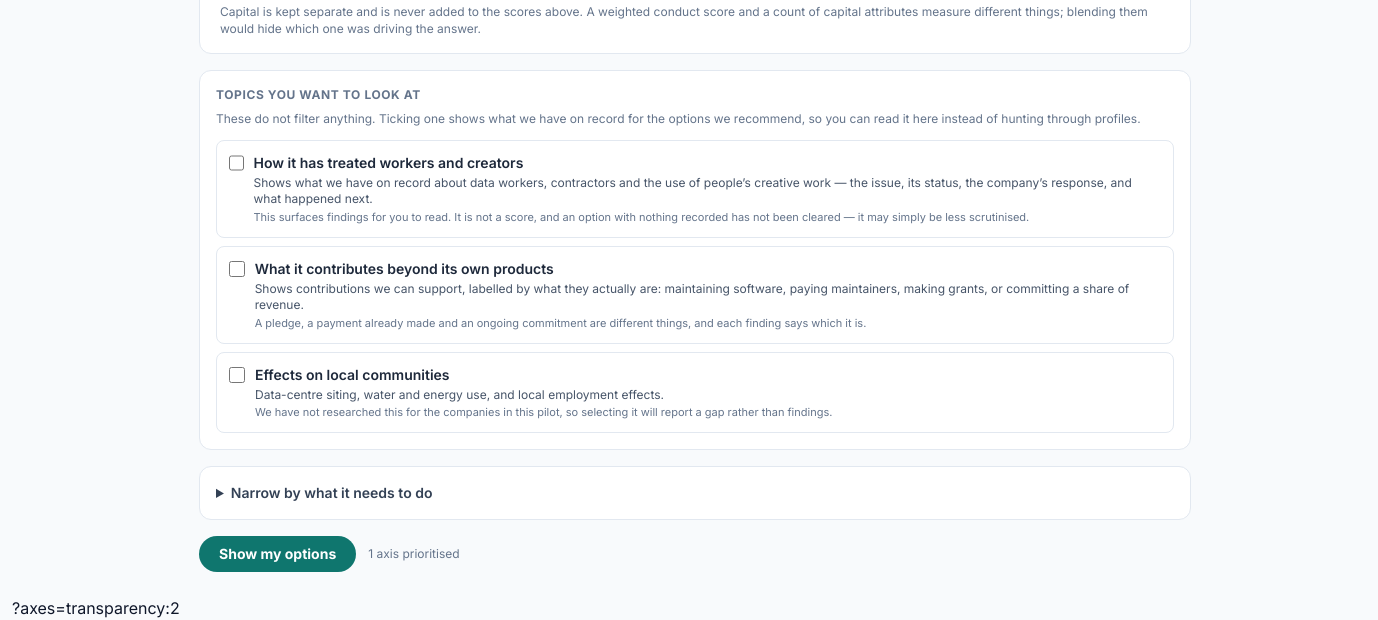
Test: axis priorities in the tool finder › orders the submitted results by the shared priorities and says so
(page scrolled)
Click the button "Show my options" at coordinates (278, 554), box [199, 536, 356, 572]
(page scrolled)
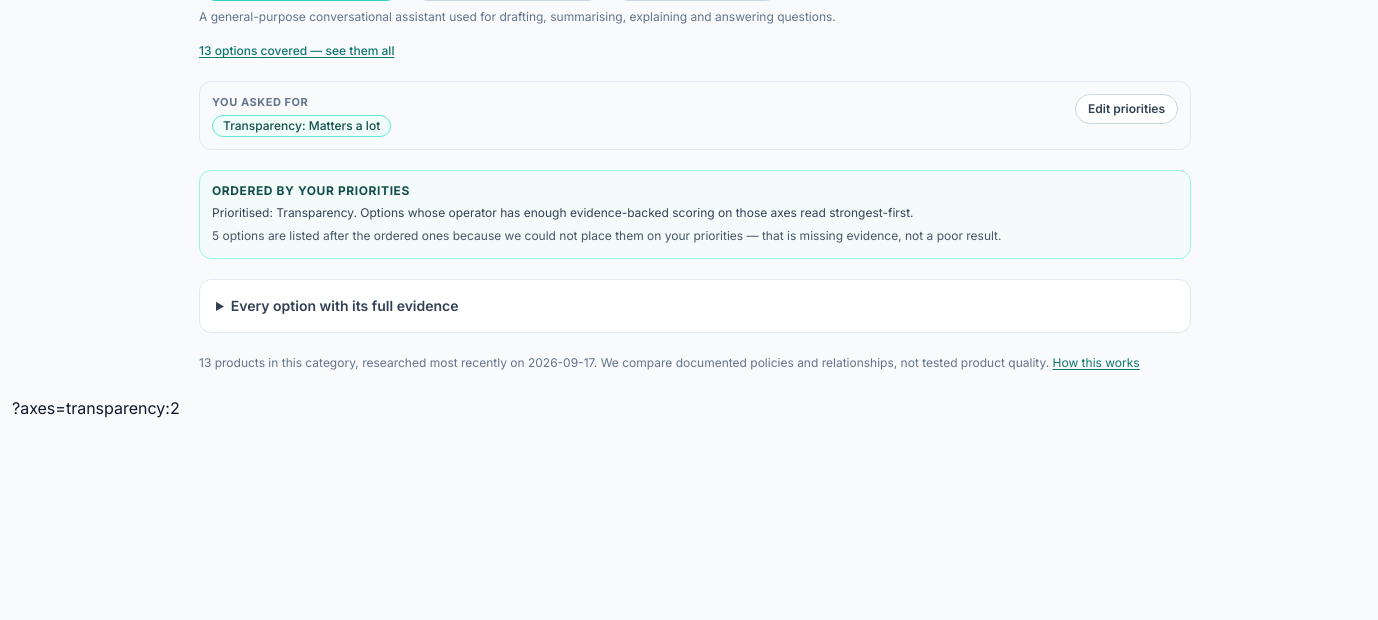
Now the text "Ordered by your priorities" is shown, box [212, 182, 410, 198]
Now the list item "Transparency: Matters a lot" is shown, box [212, 114, 391, 136]
